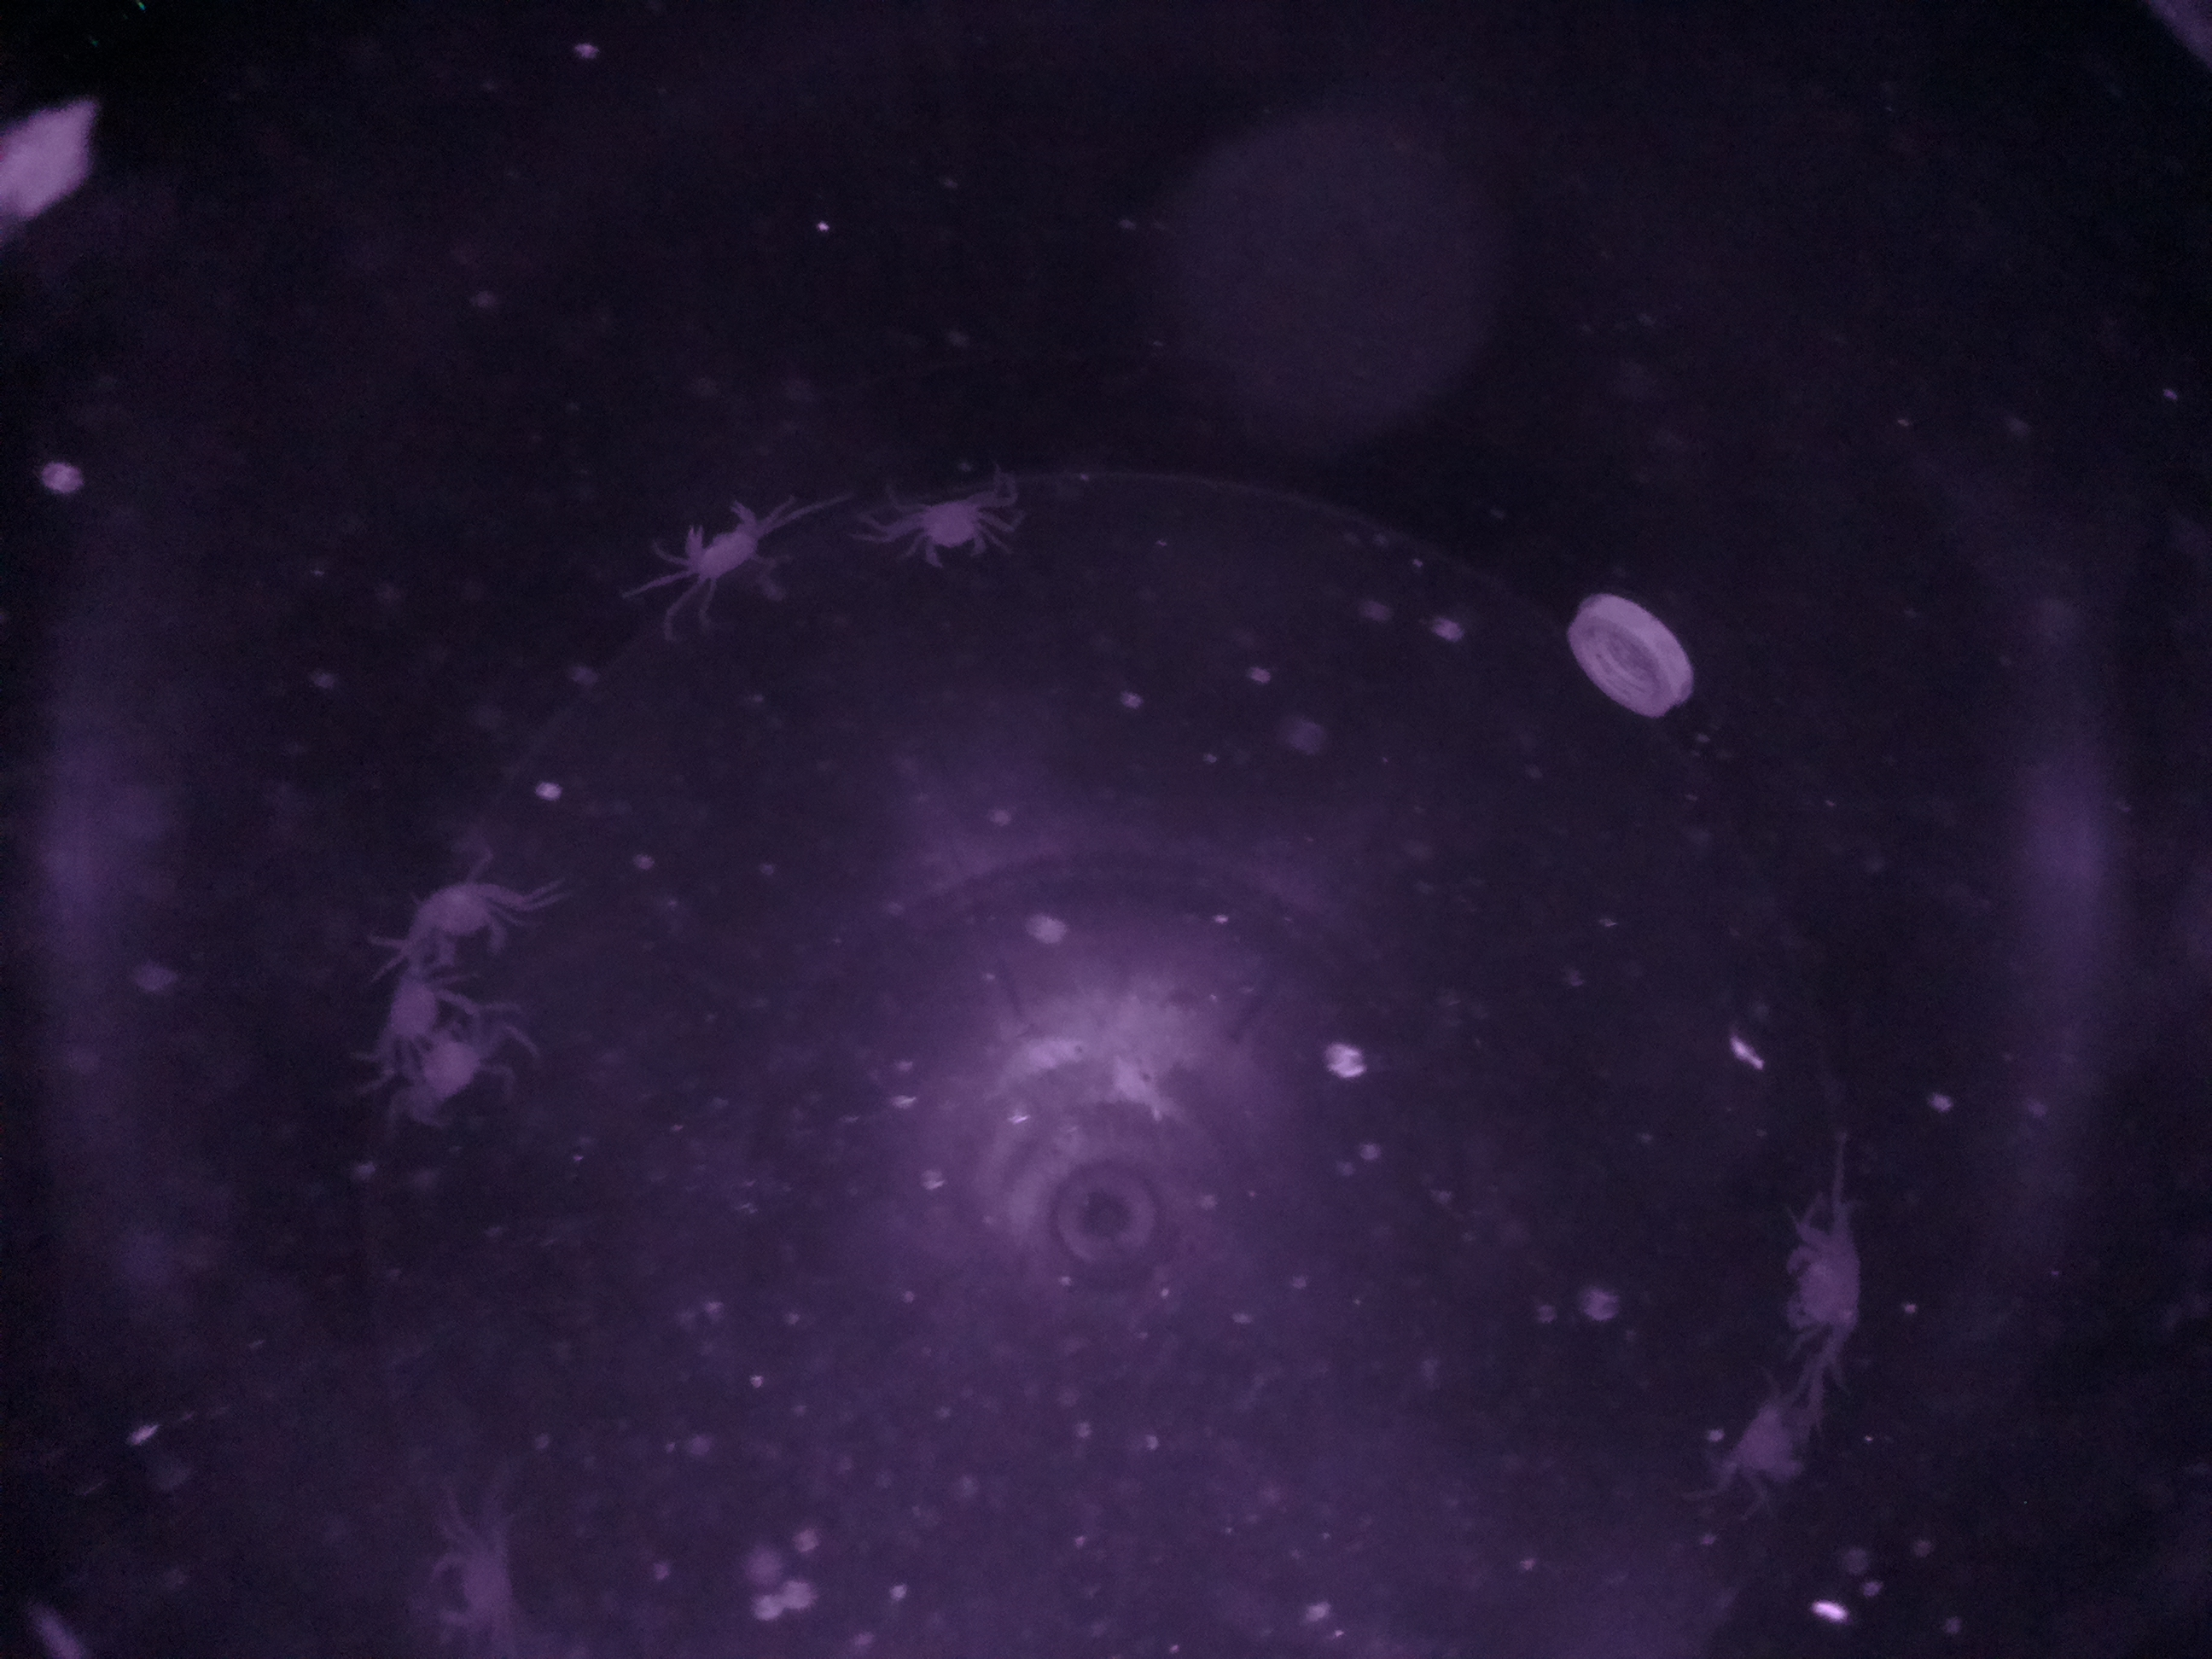Crab: (1743, 1201, 1911, 1377), (383, 843, 535, 981), (650, 472, 787, 613), (881, 465, 1012, 591)
